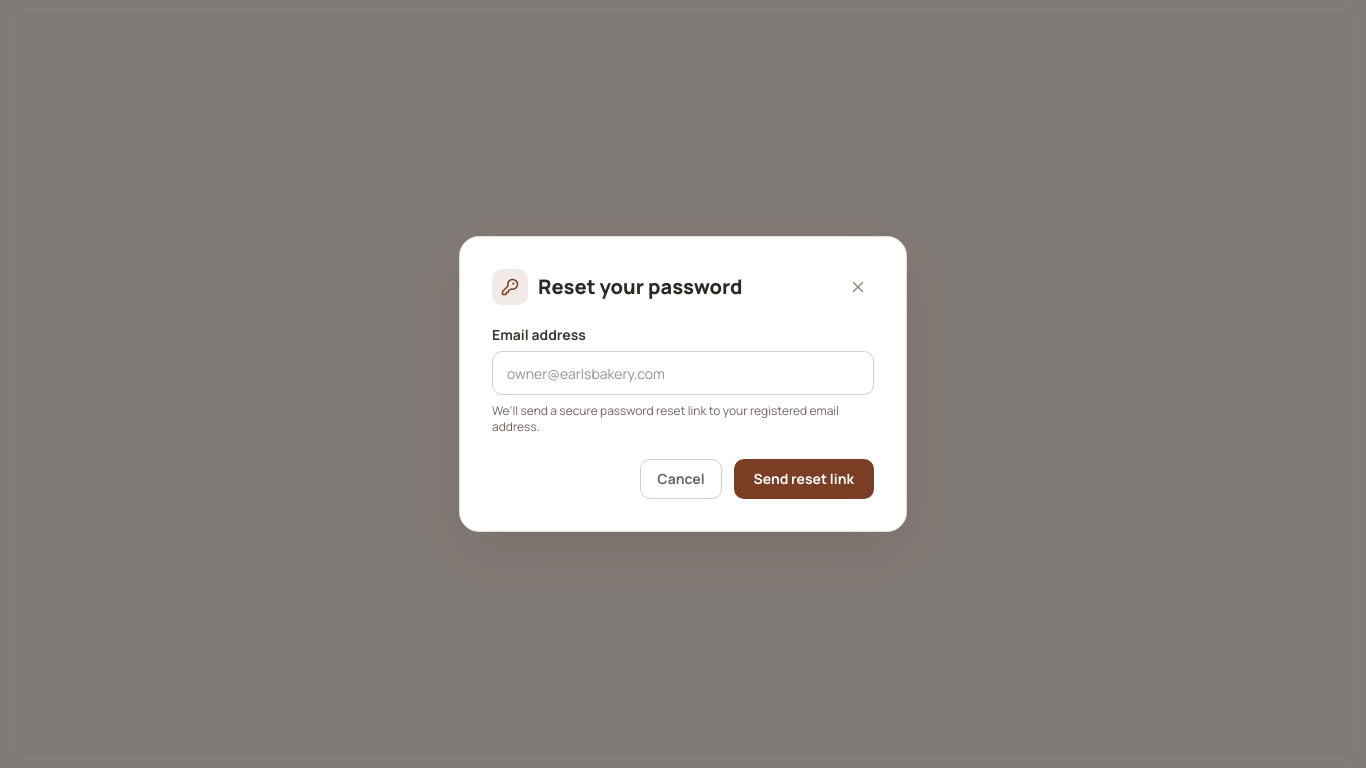
PasswordResetDialog › requests a reset without exposing a generic update-password tab
Step 1. Type "owner@example.com" into the field labelled "Email address" → x=683, y=373, box [492, 351, 874, 395]
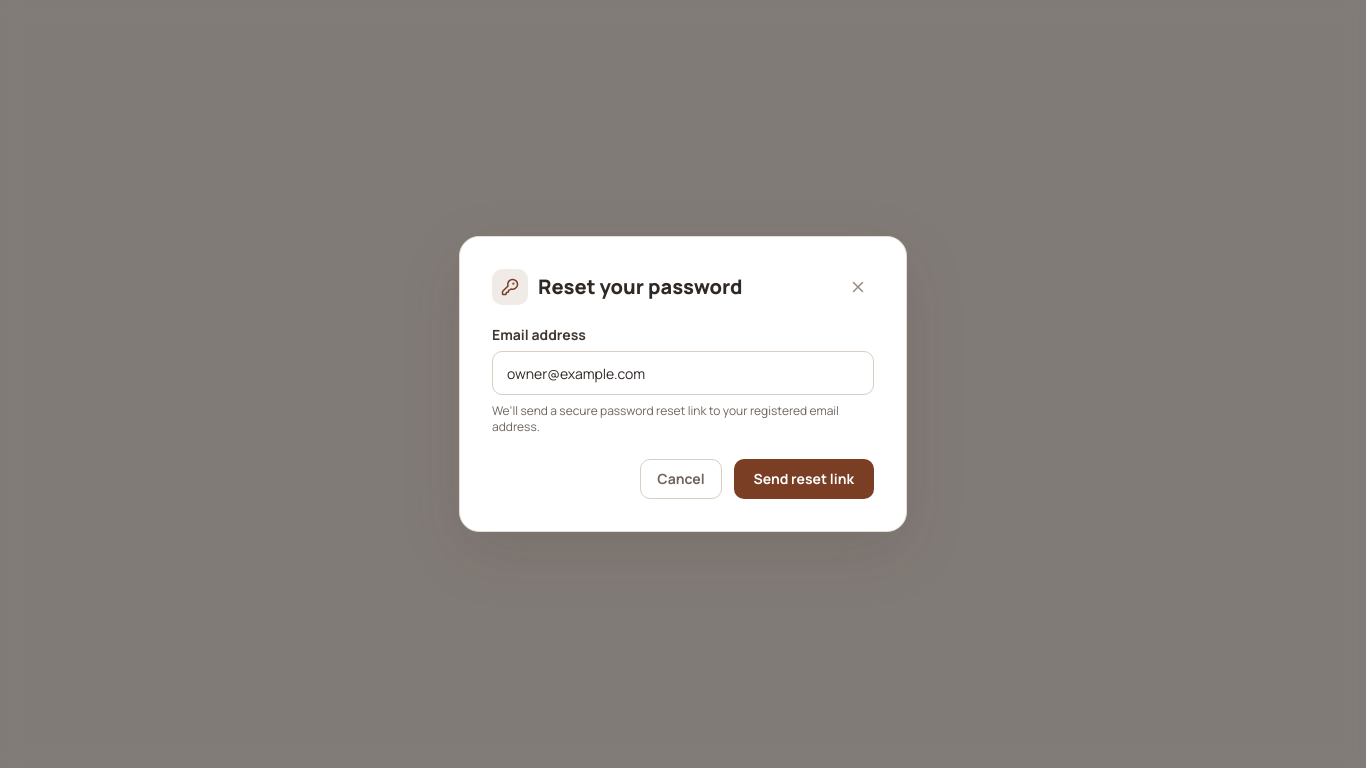
Step 2. Click the button "Send reset link" → x=804, y=479, box [734, 459, 874, 499]
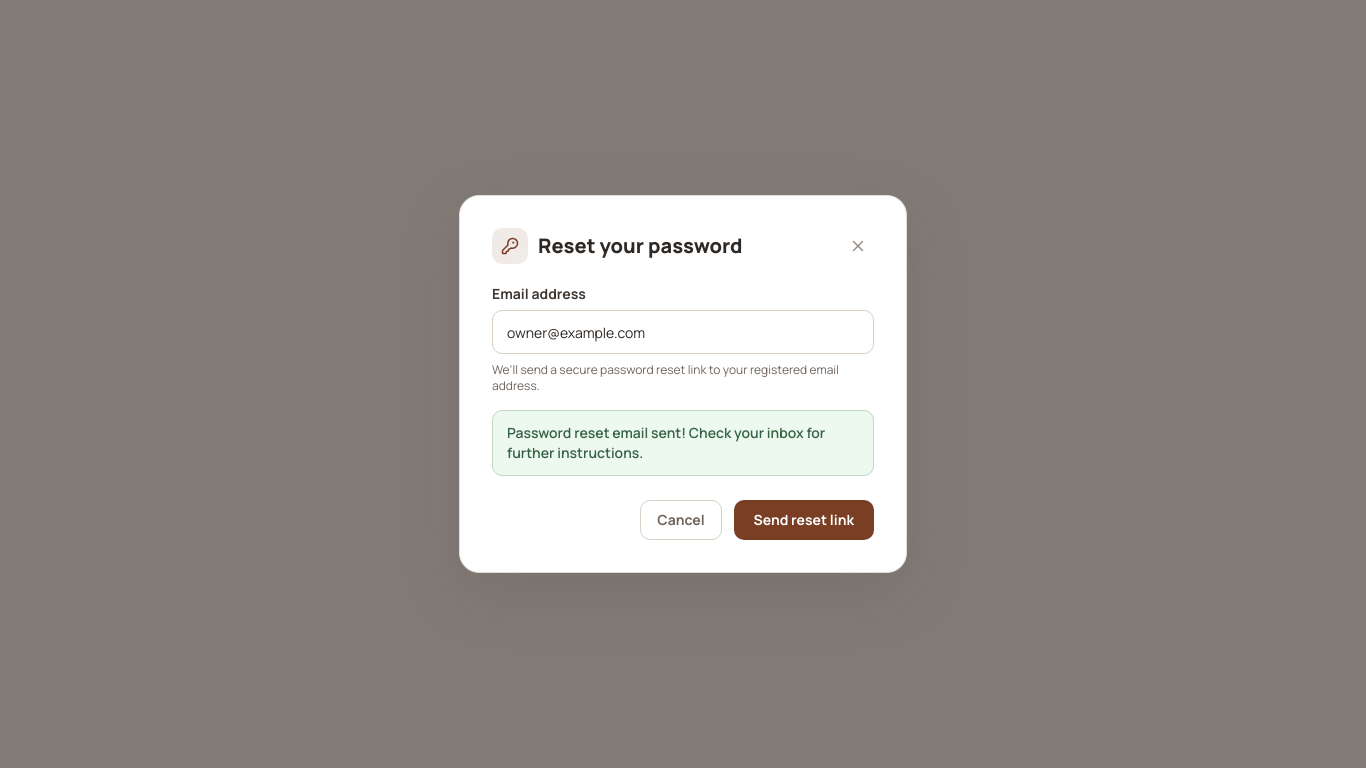
Check: the message shows "Check your inbox", box [507, 423, 825, 462]
